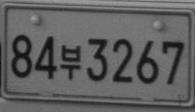2: (112, 38, 133, 83)
3: (86, 37, 108, 81)
4: (33, 36, 57, 79)
6: (136, 40, 159, 84)
7: (161, 40, 185, 85)
8: (10, 34, 33, 79)
부: (59, 44, 81, 81)
